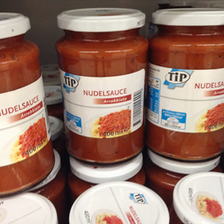tomato_sauce: (55, 8, 148, 165), (147, 7, 224, 160), (1, 11, 56, 195)
